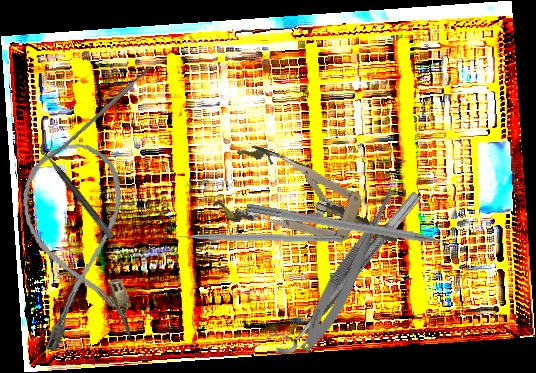Cannula: (17, 139, 137, 353)
Chopper: (166, 223, 342, 243)
Fixation Ring: (262, 179, 424, 362), (36, 137, 123, 240)
Micro Scissor: (294, 171, 408, 358)
Pusher: (245, 202, 472, 255)
Scalpel Handle: (48, 65, 154, 161)
Speculum: (210, 138, 411, 277)
